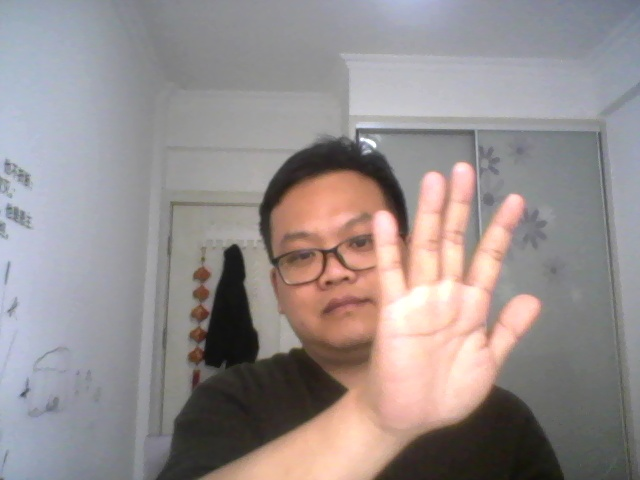Hello: (363, 157, 546, 440)
